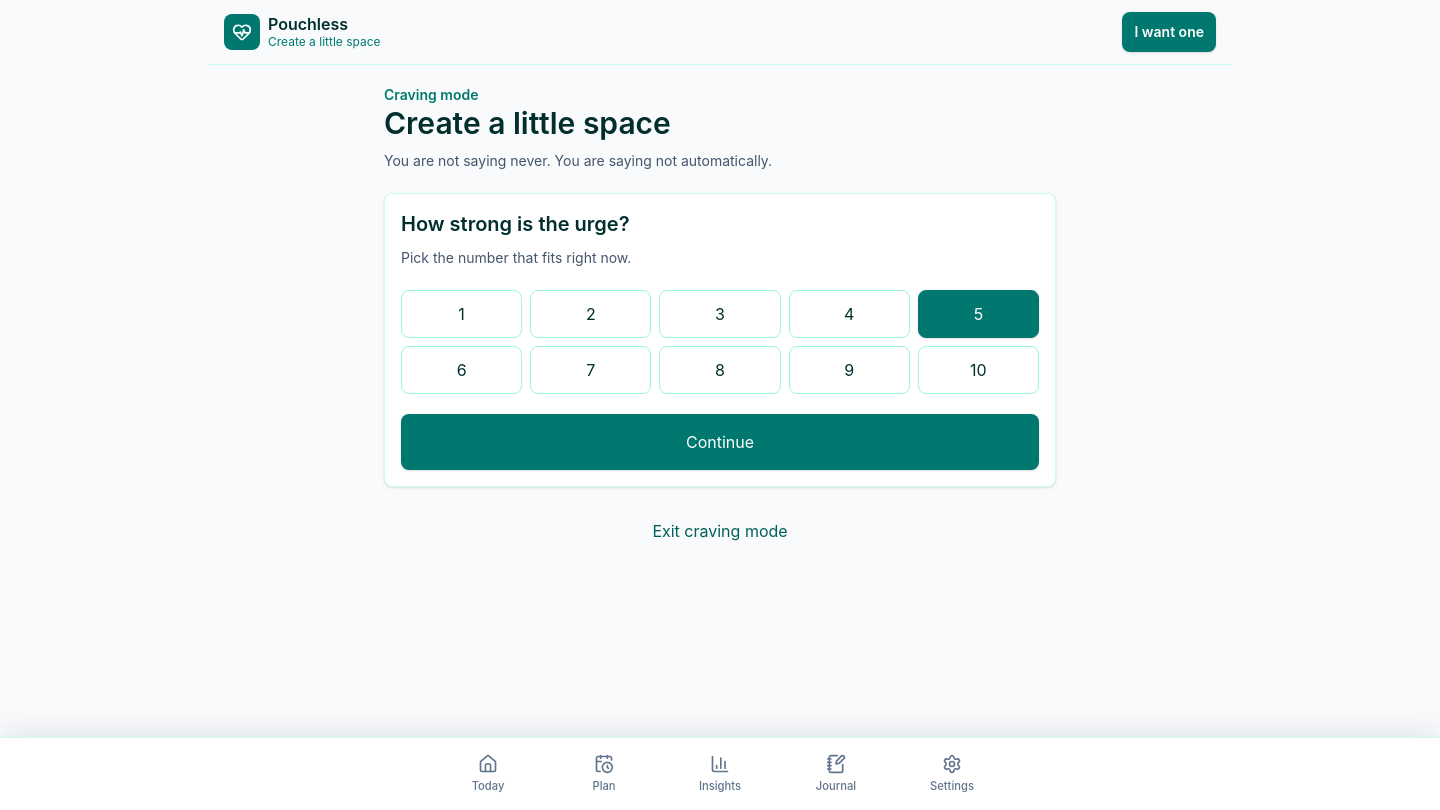
it: Pouchless app flows › runs the craving flow and saves a skipped outcome
The width and height of the screenshot is (1440, 810).
Expected: the text "Craving mode" is shown, [384, 86, 478, 103]
What coordinates should you click on to do the following:
click the button "Continue"
I would click on:
 (720, 442)
Its box is [401, 414, 1039, 470].
(page scrolled)
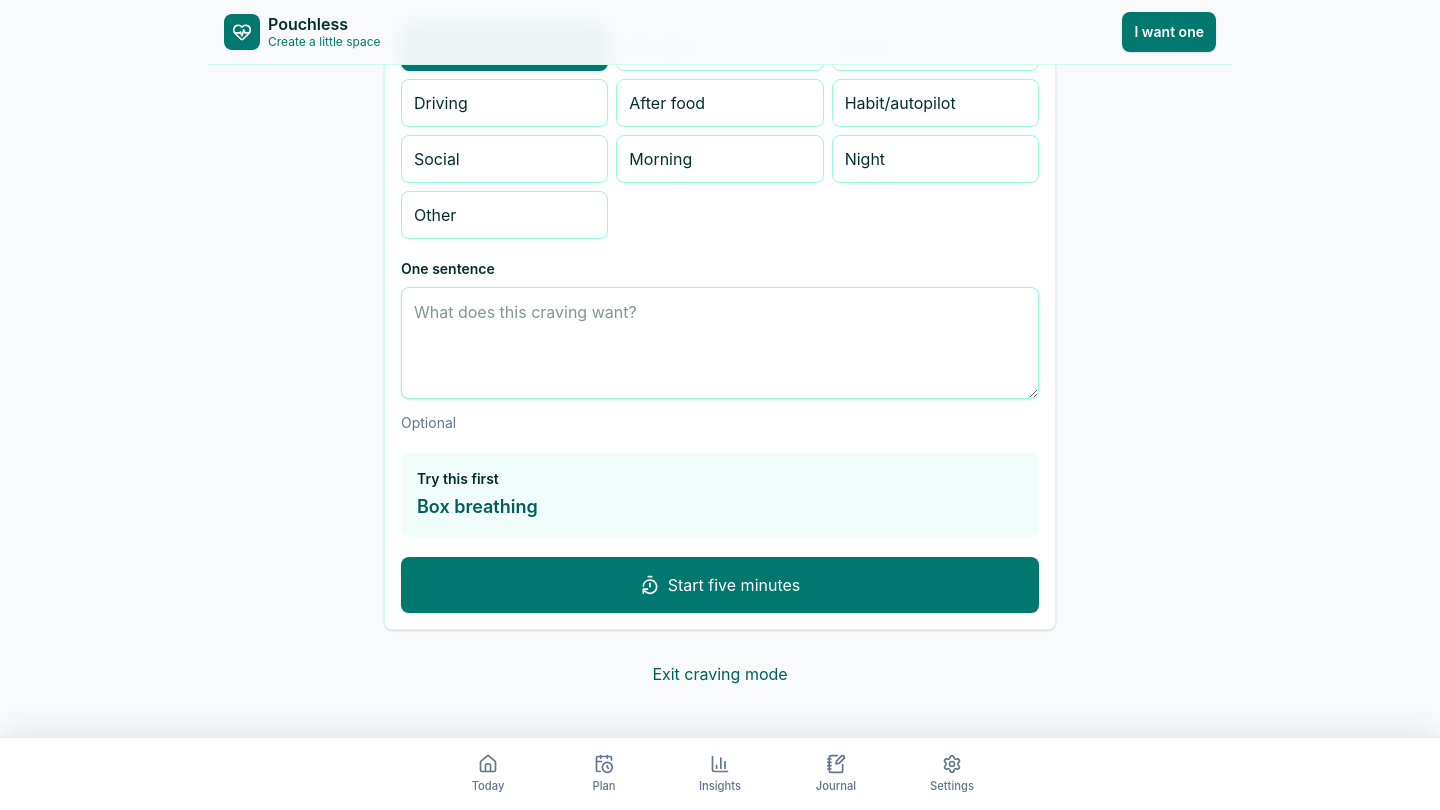
What coordinates should you click on to do the following:
click the button "Start five minutes"
I would click on:
 (720, 585)
Its box is [401, 557, 1039, 613].
(page scrolled)
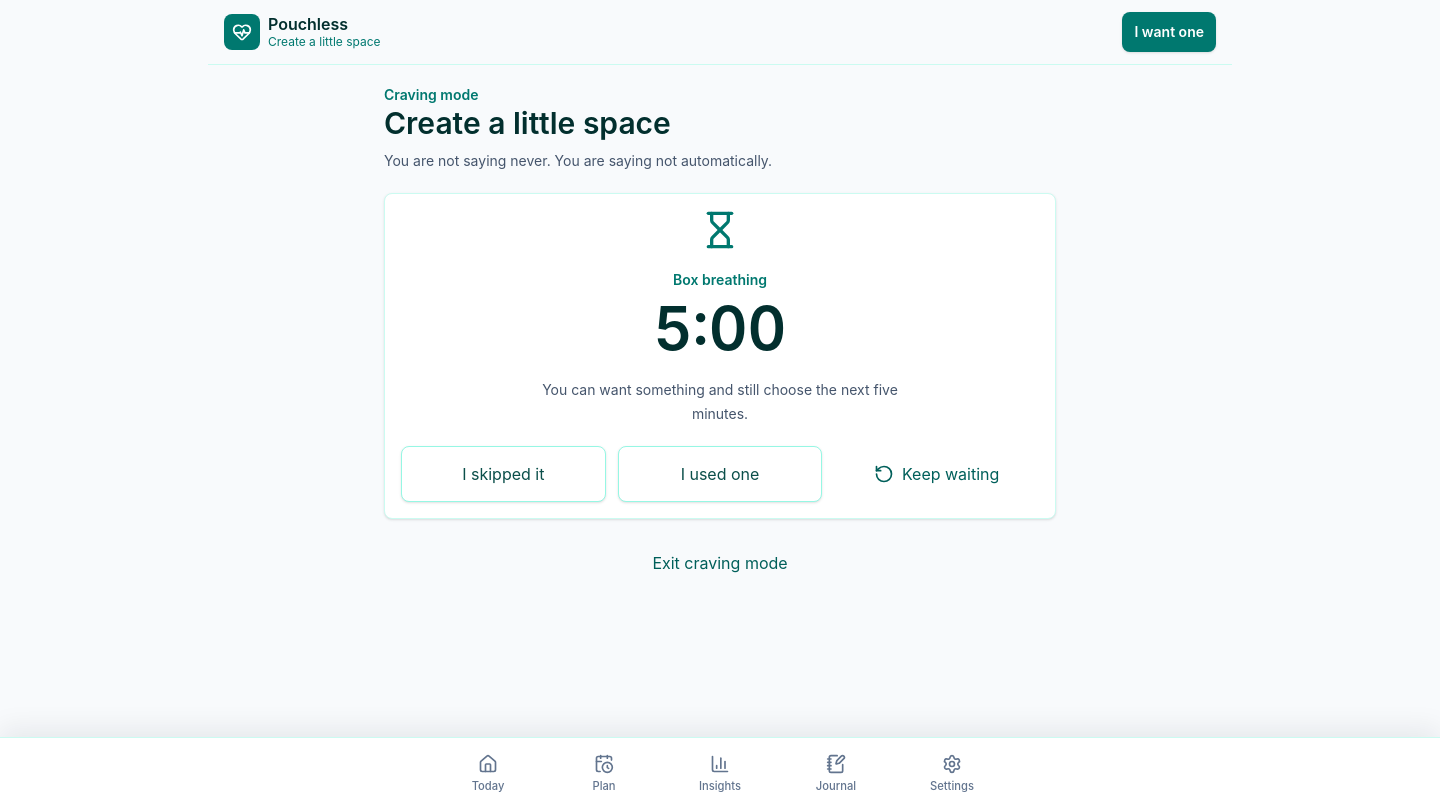
Now the text "5:00" is shown, box [654, 292, 786, 364]
What coordinates should you click on to do the following:
click the button "I skipped it"
I would click on:
 (503, 474)
Its box is [401, 446, 606, 502].
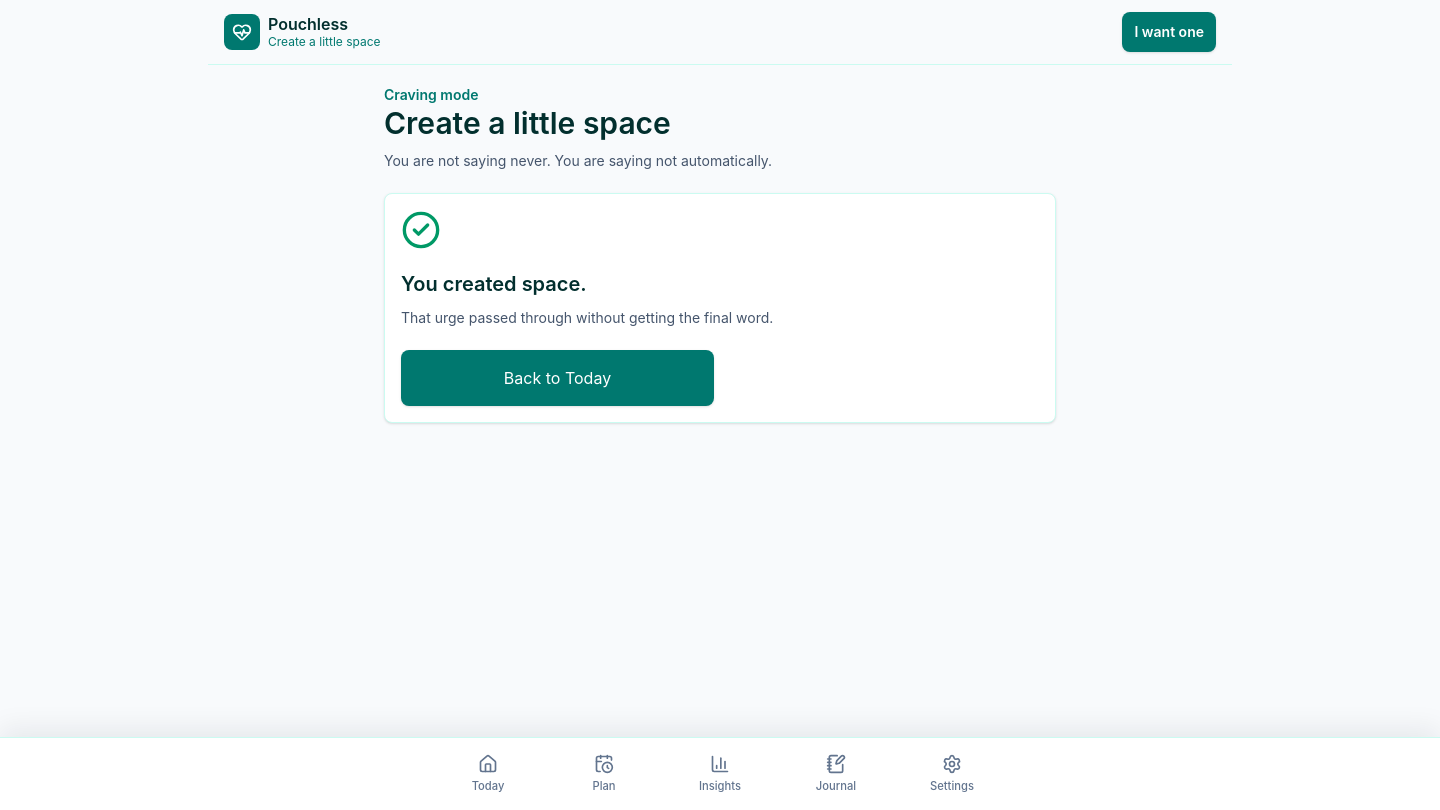
Now the heading "You created space." is shown, box [401, 272, 587, 296]
